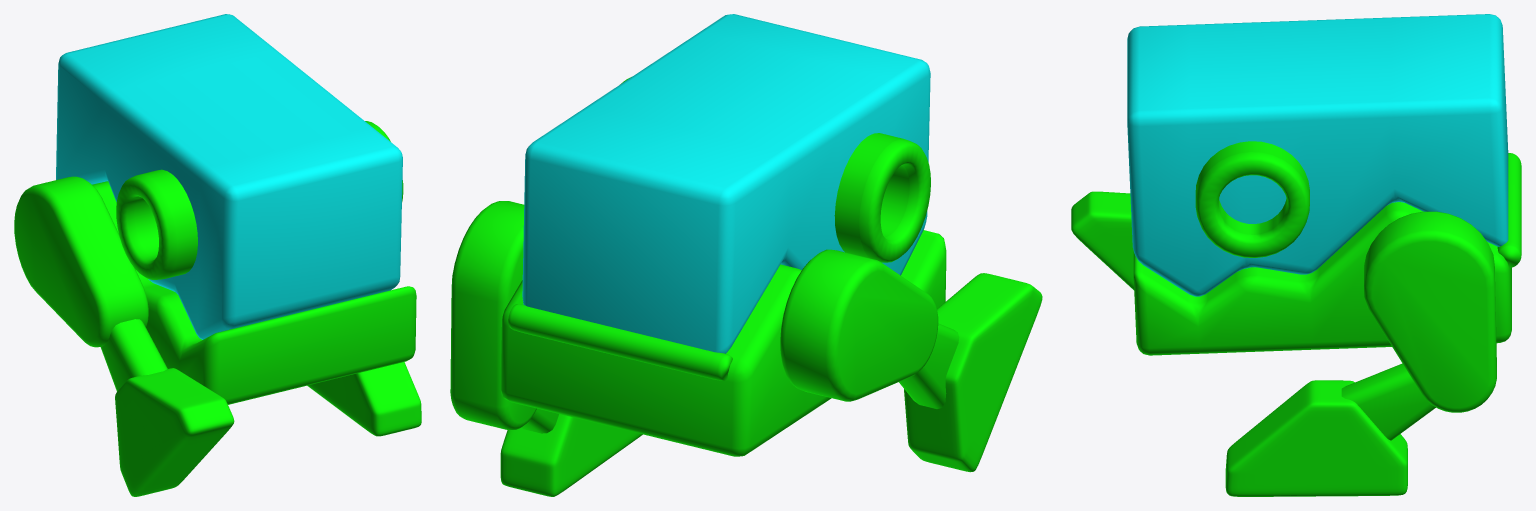
The picture shows the model from 3 angles, left to right: view 1: azimuth 30°, elevation 25°; view 2: azimuth 150°, elevation 25°; view 3: azimuth 270°, elevation 25°; orthographic projection. The views are drawn at different scales.
Parts seen in each view (by area): view 1: Top_Jaw, Lower_Jaw, Thighs_Left, Feet_Left, Eyes, Feet_Right, Shin_Left; view 2: Top_Jaw, Lower_Jaw, Thighs_Left, Feet_Left, Thighs_Right, Eyes, Feet_Right, Hinge, Shin_Left; view 3: Top_Jaw, Lower_Jaw, Thighs_Right, Feet_Right, Eyes, Feet_Left, Shin_Right, Hinge.
Part boxes in pixels (x1,y1,x2,y2): Top_Jaw: (56, 14, 402, 339); Lower_Jaw: (92, 181, 416, 404); Thighs_Left: (14, 176, 148, 347); Feet_Left: (115, 368, 234, 496); Eyes: (116, 121, 403, 279); Feet_Right: (307, 362, 421, 436); Shin_Left: (100, 319, 167, 391); Top_Jaw: (522, 14, 930, 353); Lower_Jaw: (500, 230, 946, 456); Thighs_Left: (780, 249, 938, 401); Feet_Left: (904, 273, 1042, 472); Thighs_Right: (450, 201, 536, 430); Eyes: (620, 77, 930, 262); Feet_Right: (500, 414, 642, 496); Hinge: (508, 304, 732, 380); Shin_Left: (899, 323, 959, 408); Top_Jaw: (1127, 14, 1508, 296); Lower_Jaw: (1133, 202, 1511, 355); Thighs_Right: (1364, 211, 1496, 412); Feet_Right: (1225, 380, 1407, 496); Eyes: (1195, 141, 1309, 257); Feet_Left: (1071, 191, 1134, 290); Shin_Right: (1341, 363, 1435, 440); Hinge: (1497, 153, 1521, 267).
Size of the model in its own units: 2.03 by 2.13 by 2.39.
